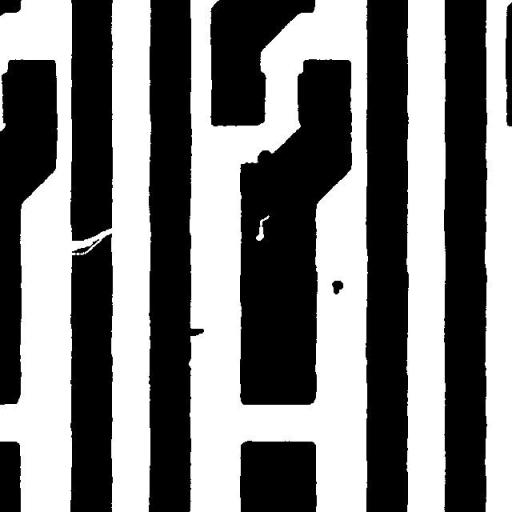copper: (324, 272, 350, 302)
open: (50, 220, 122, 262)
pin-hole: (248, 207, 277, 248)
spur: (250, 142, 279, 173), (177, 318, 211, 344)
